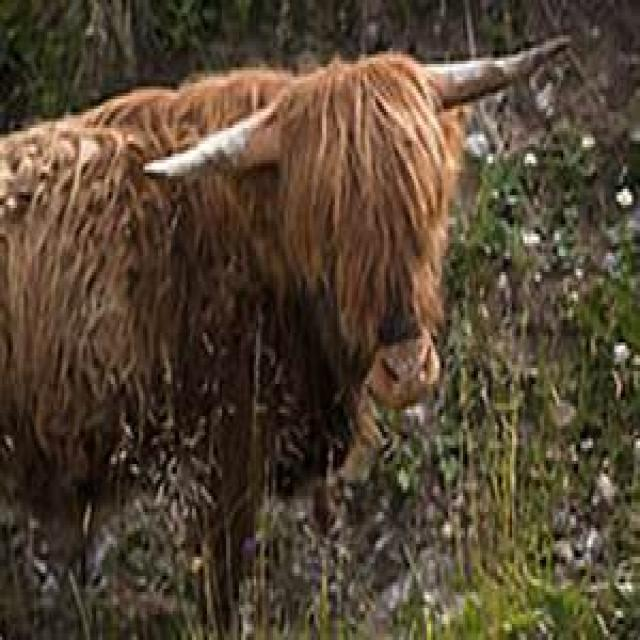animal: (3, 20, 567, 620)
